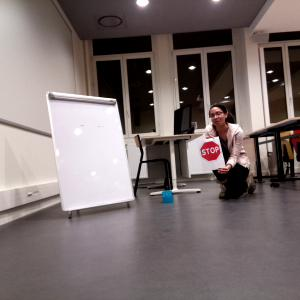big: (45, 91, 136, 212)
small: (161, 190, 174, 204)
